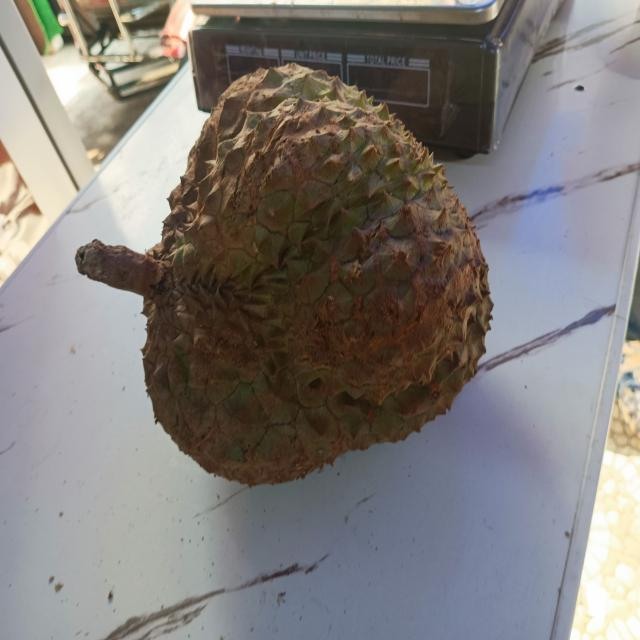mature: (67, 59, 507, 522)
